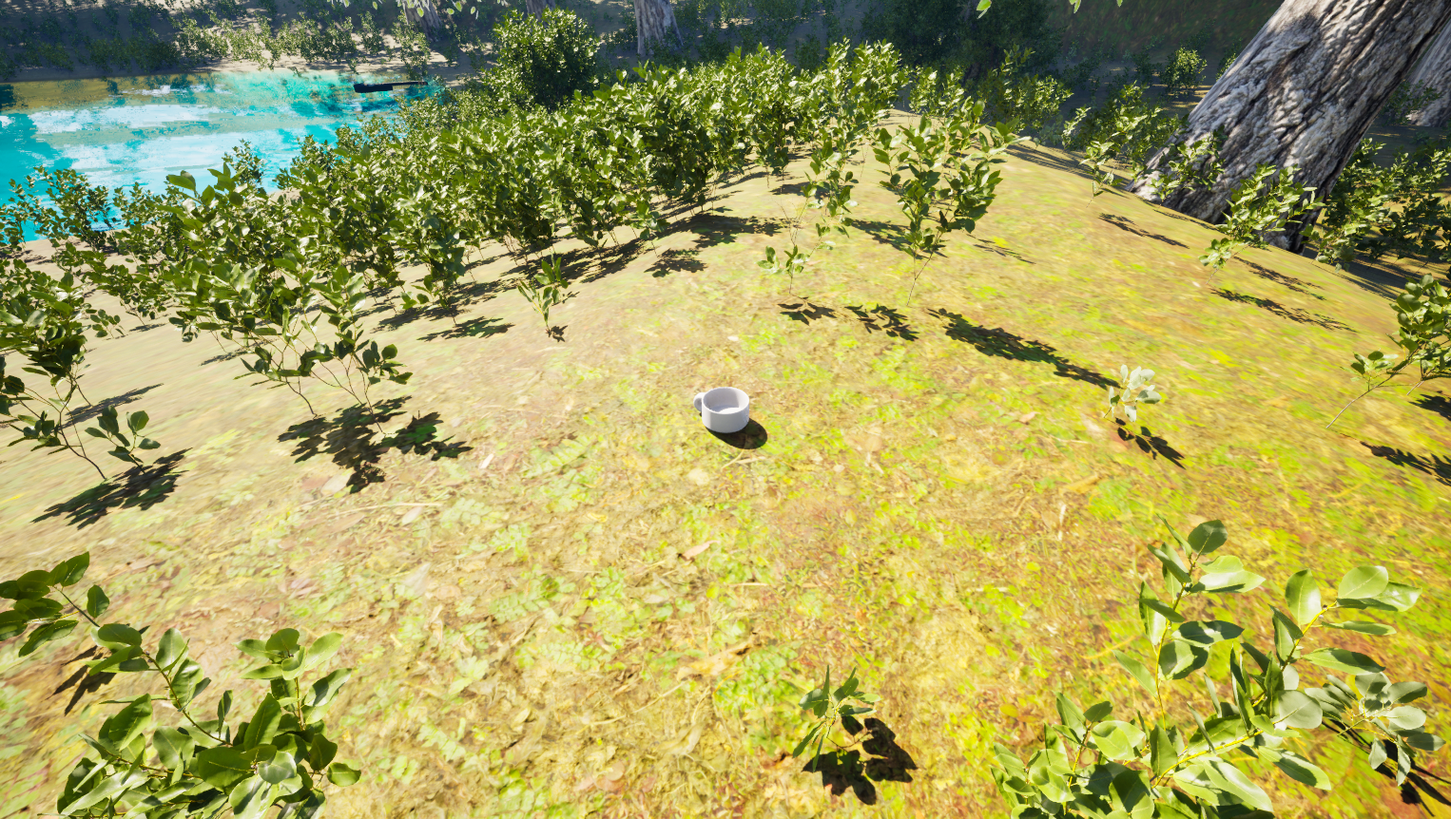Teacup: (690, 379, 758, 439)
